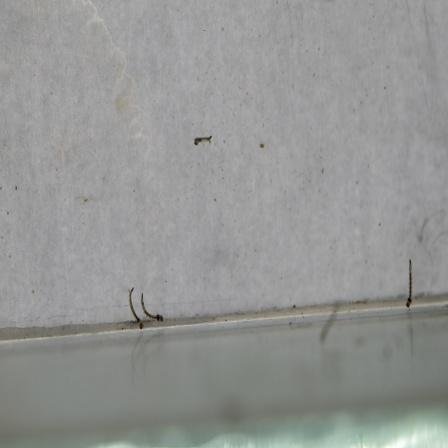Jentik-Nyamuk: (123, 283, 168, 333), (402, 256, 416, 309), (189, 130, 214, 152)
